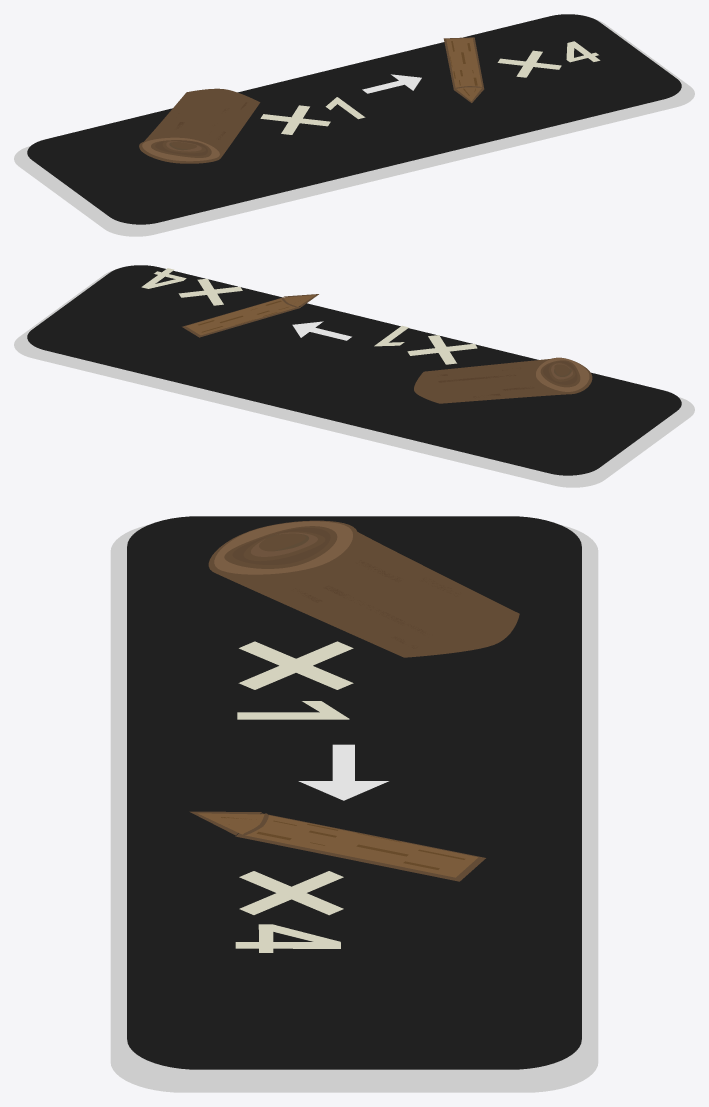
Rendered from WOOOOODSTAAAAKEfbx.fbx.
The picture shows the model from 3 angles, top to bottom: view 1: azimuth 30°, elevation 25°; view 2: azimuth 150°, elevation 25°; view 3: azimuth 270°, elevation 25°; orthographic projection. The views are drawn at different scales.
Parts seen in each view (by area): view 1: Curve.001, Curve, Curve.047, Curve.028, Curve.051, Curve.020; view 2: Curve.001, Curve, Curve.047, Curve.028, Curve.051, Curve.026, Curve.021; view 3: Curve.001, Curve, Curve.047, Curve.028, Curve.051, Curve.020, Curve.026, Curve.021, Curve.042, Curve.050, Curve.043, Curve.063 (+2 smaller).
Part boxes in pixels (left/top/right/bottom): Curve.001: left=27, top=14, right=681, bottom=224; Curve: left=14, top=19, right=694, bottom=236; Curve.047: left=139, top=88, right=260, bottom=163; Curve.028: left=446, top=38, right=481, bottom=88; Curve.051: left=142, top=137, right=219, bottom=161; Curve.020: left=260, top=114, right=330, bottom=126; Curve.001: left=27, top=265, right=681, bottom=475; Curve: left=14, top=270, right=694, bottom=487; Curve.047: left=414, top=359, right=592, bottom=403; Curve.028: left=186, top=298, right=296, bottom=335; Curve.051: left=536, top=357, right=589, bottom=391; Curve.026: left=182, top=297, right=300, bottom=337; Curve.021: left=407, top=343, right=477, bottom=355; Curve.001: left=127, top=516, right=581, bottom=1069; Curve: left=110, top=525, right=598, bottom=1092; Curve.047: left=208, top=532, right=519, bottom=657; Curve.028: left=245, top=815, right=477, bottom=877; Curve.051: left=214, top=521, right=352, bottom=574; Curve.020: left=238, top=641, right=353, bottom=689; Curve.026: left=235, top=813, right=485, bottom=881; Curve.021: left=239, top=641, right=353, bottom=689; Curve.042: left=239, top=871, right=343, bottom=914; Curve.050: left=211, top=520, right=358, bottom=578; Curve.043: left=239, top=871, right=343, bottom=915; Curve.063: left=232, top=528, right=330, bottom=564.
Size of the model in its own units: 8.83 by 0.58 by 3.18.
